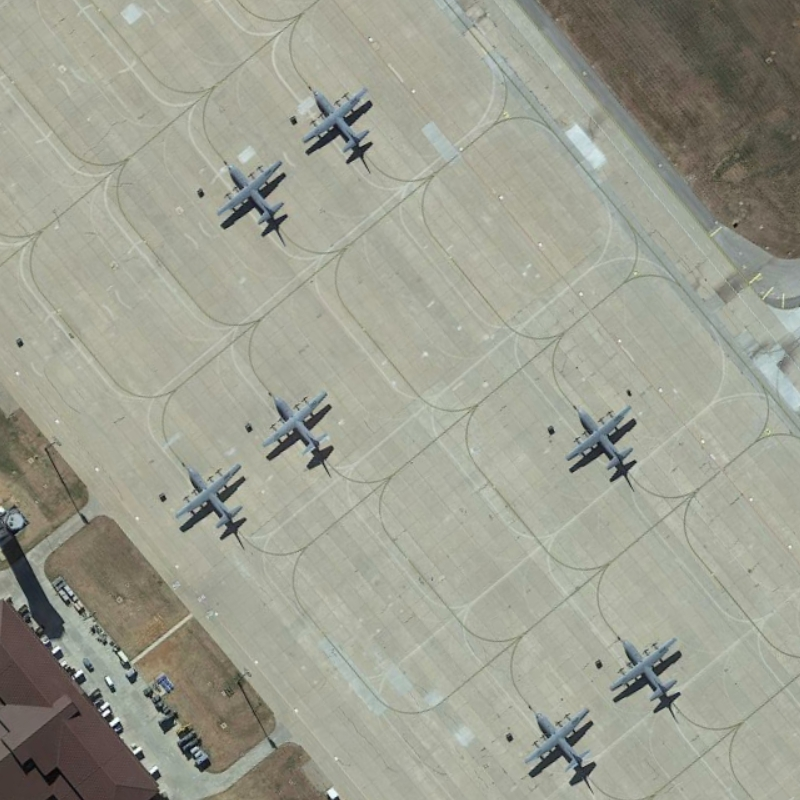A2: (165, 454, 249, 532), (556, 398, 640, 474), (214, 149, 291, 230), (299, 82, 377, 158), (522, 702, 596, 775), (606, 634, 685, 702), (260, 387, 333, 460)
